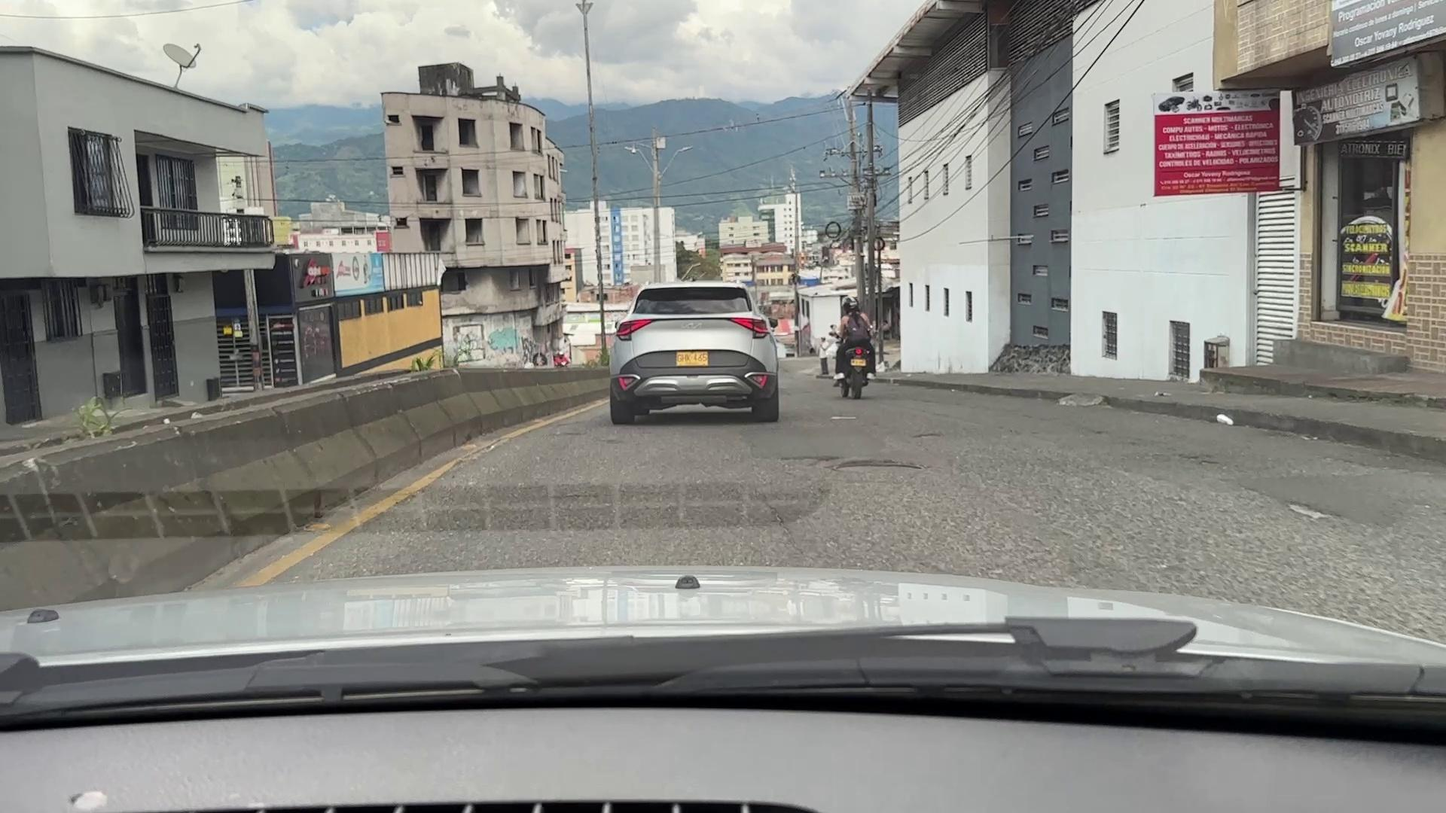bache: (1289, 504, 1329, 518)
registro: (833, 460, 922, 472)
